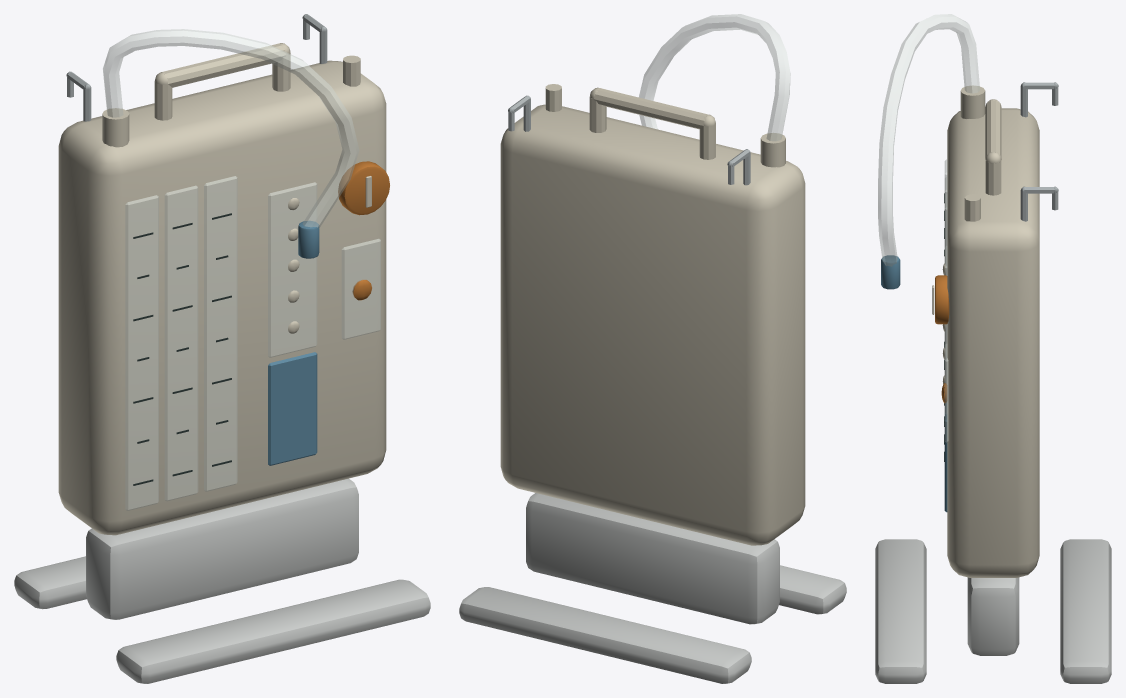
File: sc-chest-drainage-unit.glb
3 views of the same model, side by side, from view 1: azimuth 30°, elevation 25°; view 2: azimuth 150°, elevation 25°; view 3: azimuth 270°, elevation 25° (orthographic). The views are drawn at different scales.
Visible parts, largest first — view 1: sc-chest-drainage-unit; view 2: sc-chest-drainage-unit; view 3: sc-chest-drainage-unit.
Boxes of the visible parts, bbox=[...] form: sc-chest-drainage-unit: bbox=[14, 14, 430, 683]; sc-chest-drainage-unit: bbox=[459, 14, 846, 683]; sc-chest-drainage-unit: bbox=[875, 14, 1111, 683].
Bounding box in the file's own units: 0.3 × 0.6073 × 0.23.
